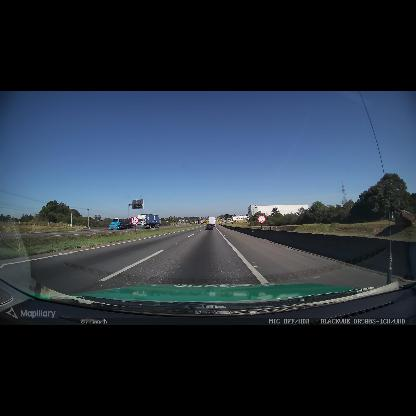R-19: (257, 214, 266, 224), (131, 216, 139, 225)
